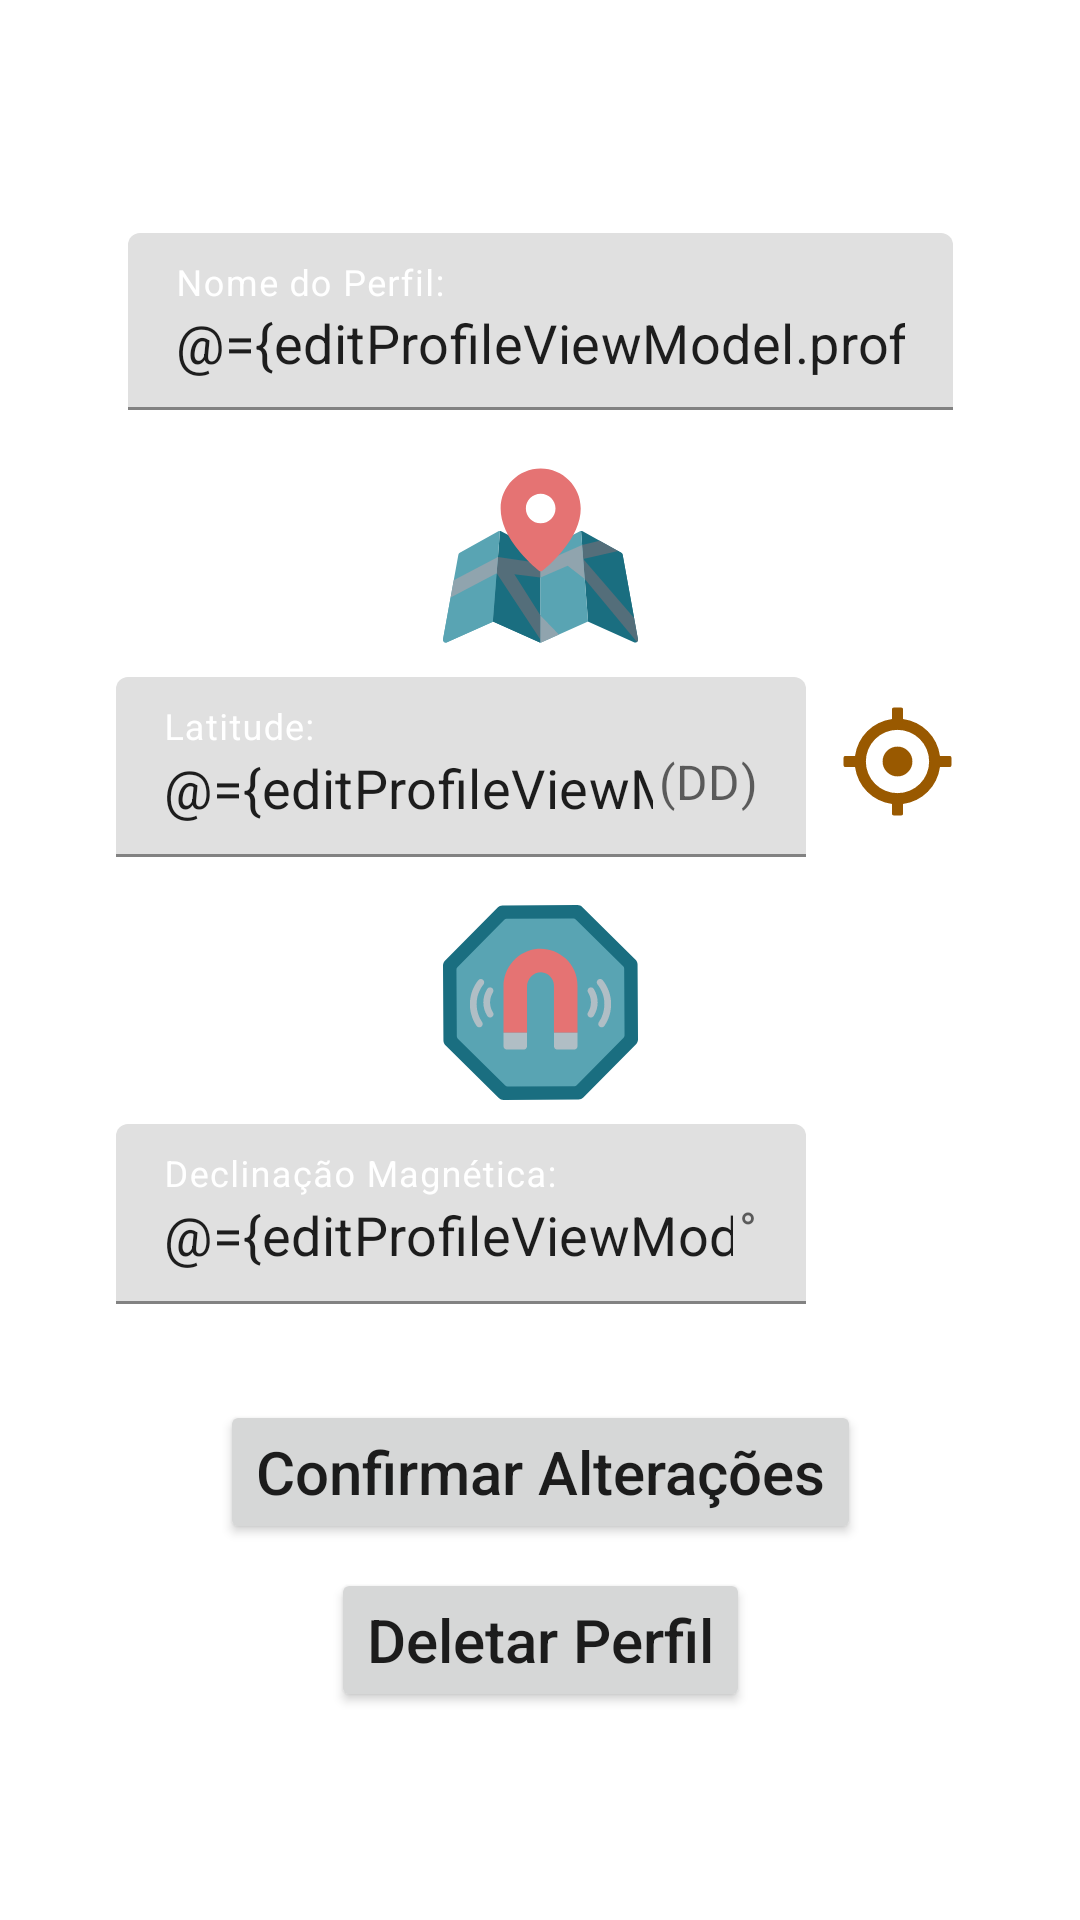

Named icons in this screenshot (1080px×1920px) and their bounding boxes, [x1=x1, y1=y1, x2=x2, y2=y2]:
gps circle: [x1=843, y1=707, x2=952, y2=816]
magnetic field: [x1=443, y1=905, x2=638, y2=1100]
map: [x1=443, y1=468, x2=638, y2=643]
